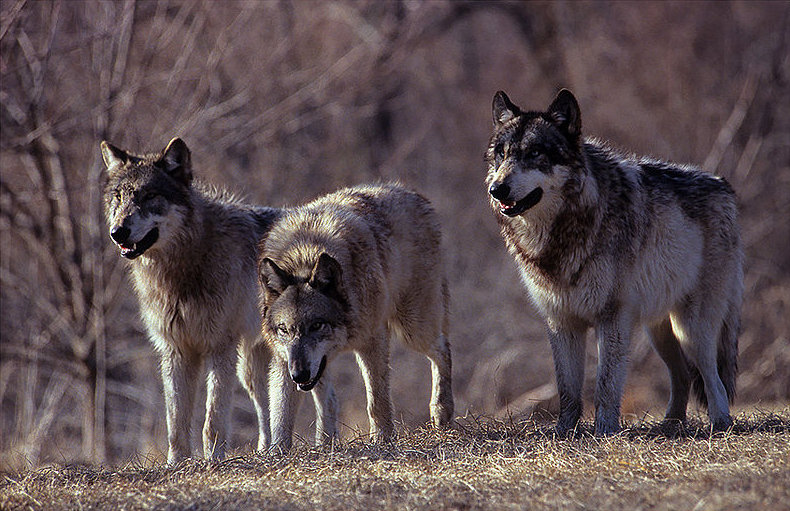wolf: (480, 93, 738, 440), (102, 124, 324, 465), (262, 168, 460, 444)
